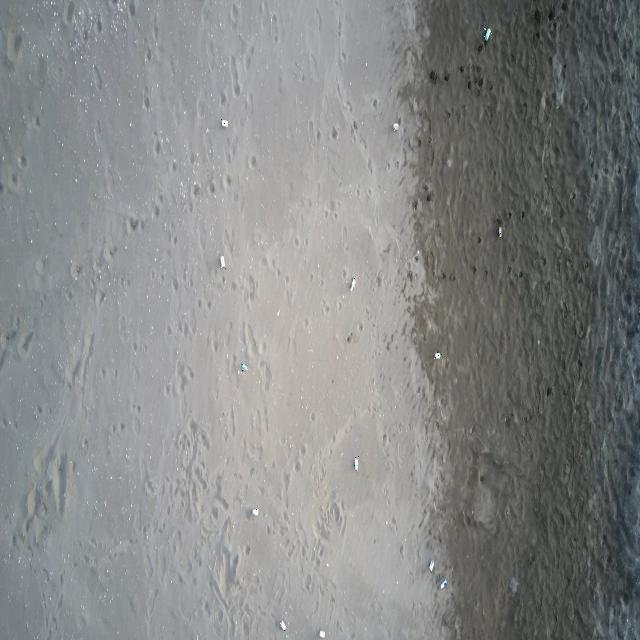tin-and-aluminum-cans: (484, 28, 492, 42), (279, 619, 287, 633), (219, 254, 226, 269), (428, 559, 435, 573), (350, 278, 356, 294), (353, 456, 359, 471), (434, 350, 442, 361), (221, 118, 229, 129), (241, 361, 248, 373), (440, 580, 448, 590), (318, 630, 326, 640), (250, 508, 258, 517), (498, 225, 502, 238), (393, 123, 399, 131)
